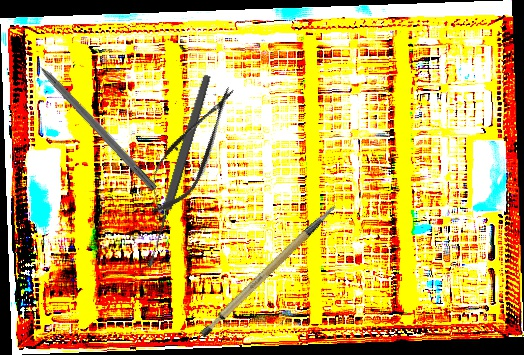Hook Surgical: (22, 47, 160, 192)
Micro Scissor: (133, 75, 251, 225)
Scalpel Handle: (185, 204, 355, 340)
Surgical Spoon: (143, 73, 213, 269)
